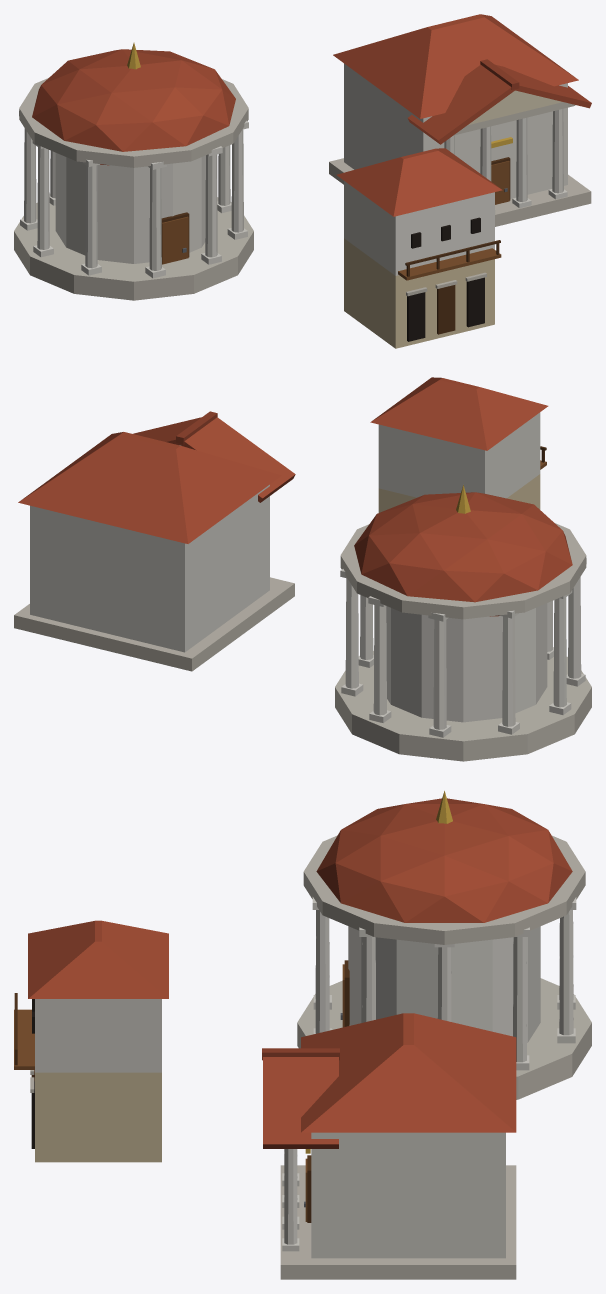
File: angel_compound_broken.glb
3 views of the same model, one above another, from view 1: azimuth 30°, elevation 25°; view 2: azimuth 150°, elevation 25°; view 3: azimuth 270°, elevation 25° (orthographic). The views are drawn at different scales.
Visible parts, largest first — view 1: angel_compound_piece8, angel_compound_piece3, angel_compound_piece4, angel_compound_piece2, angel_compound_piece0, angel_compound_piece13, angel_compound_piece9, angel_compound_piece6, angel_compound_piece5, angel_compound_piece10, angel_compound_piece1, angel_compound_piece7 (+1 smaller); view 2: angel_compound_piece2, angel_compound_piece1, angel_compound_piece3, angel_compound_piece0, angel_compound_piece8, angel_compound_piece13, angel_compound_piece6, angel_compound_piece10, angel_compound_piece9, angel_compound_piece7; view 3: angel_compound_piece3, angel_compound_piece2, angel_compound_piece8, angel_compound_piece1, angel_compound_piece6, angel_compound_piece4, angel_compound_piece10, angel_compound_piece9, angel_compound_piece0, angel_compound_piece13.
Part boxes in pixels (bbox=[...]): angel_compound_piece8: bbox=[336, 148, 502, 348]; angel_compound_piece3: bbox=[347, 14, 591, 151]; angel_compound_piece4: bbox=[128, 81, 253, 300]; angel_compound_piece2: bbox=[329, 50, 591, 226]; angel_compound_piece0: bbox=[14, 107, 107, 296]; angel_compound_piece13: bbox=[19, 69, 121, 207]; angel_compound_piece9: bbox=[104, 69, 182, 232]; angel_compound_piece6: bbox=[99, 42, 248, 211]; angel_compound_piece5: bbox=[100, 210, 218, 300]; angel_compound_piece10: bbox=[344, 231, 380, 337]; angel_compound_piece1: bbox=[29, 49, 231, 210]; angel_compound_piece7: bbox=[100, 193, 141, 288]; angel_compound_piece2: bbox=[14, 504, 294, 671]; angel_compound_piece1: bbox=[335, 522, 489, 756]; angel_compound_piece3: bbox=[18, 411, 295, 529]; angel_compound_piece0: bbox=[416, 577, 591, 761]; angel_compound_piece8: bbox=[370, 377, 548, 509]; angel_compound_piece13: bbox=[431, 511, 586, 688]; angel_compound_piece6: bbox=[346, 485, 480, 655]; angel_compound_piece10: bbox=[378, 451, 459, 512]; angel_compound_piece9: bbox=[453, 492, 573, 537]; angel_compound_piece7: bbox=[408, 671, 582, 725]; angel_compound_piece3: bbox=[262, 1013, 516, 1188]; angel_compound_piece2: bbox=[280, 1033, 516, 1279]; angel_compound_piece8: bbox=[14, 920, 168, 1162]; angel_compound_piece1: bbox=[451, 804, 591, 1099]; angel_compound_piece6: bbox=[360, 791, 491, 1021]; angel_compound_piece4: bbox=[297, 841, 437, 1048]; angel_compound_piece10: bbox=[41, 1030, 161, 1162]; angel_compound_piece9: bbox=[313, 807, 453, 859]; angel_compound_piece0: bbox=[540, 978, 583, 1018]; angel_compound_piece13: bbox=[334, 798, 519, 837].
Bounding box in the file's own units: 5.47 × 2.2 × 4.51.
